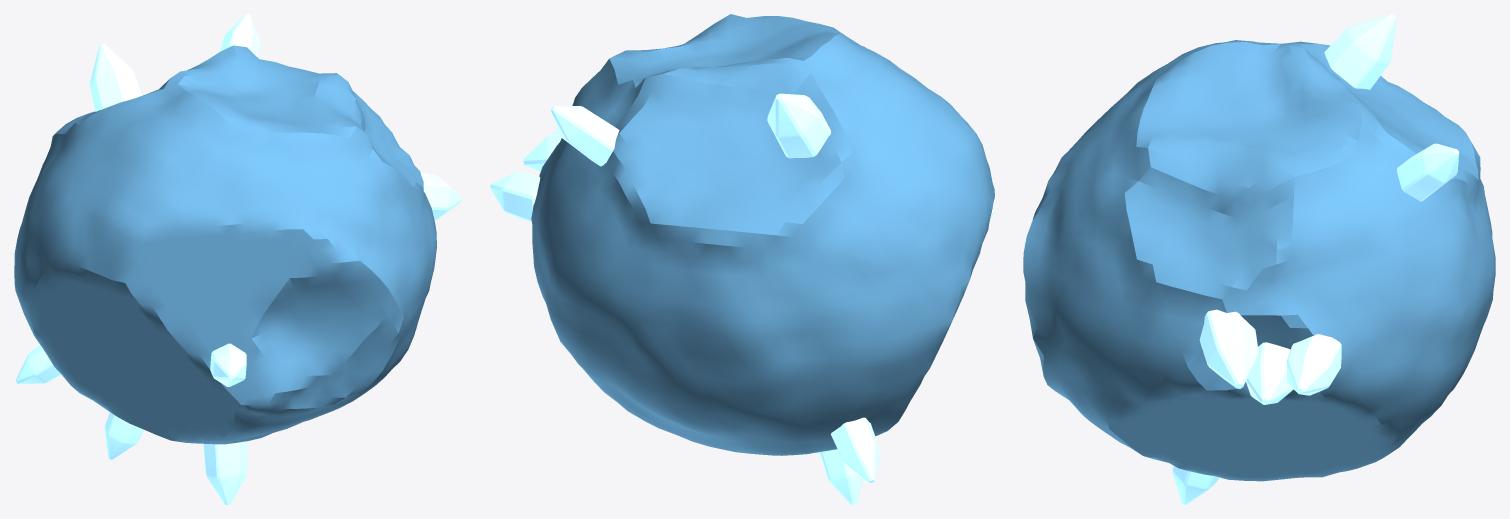
Rendered from RockMeteor.fbx.
The picture shows the model from 3 angles, left to right: view 1: azimuth 30°, elevation 25°; view 2: azimuth 150°, elevation 25°; view 3: azimuth 270°, elevation 25°; orthographic projection. The views are drawn at different scales.
Parts seen in each view (by area): view 1: RockMeteor_Body, RockMeteor_Glow; view 2: RockMeteor_Body, RockMeteor_Glow; view 3: RockMeteor_Body, RockMeteor_Glow.
Part boxes in pixels (box(x1,y1,x2,y2)): RockMeteor_Body: box(14, 45, 436, 444); RockMeteor_Glow: box(15, 14, 461, 504); RockMeteor_Body: box(531, 14, 994, 455); RockMeteor_Glow: box(490, 93, 994, 504); RockMeteor_Body: box(1023, 40, 1495, 481); RockMeteor_Glow: box(1024, 14, 1459, 504).
Bounding box in the file's own units: 238 × 224 × 204.
